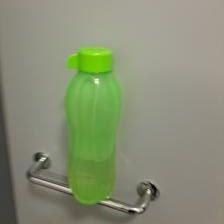bottle: (61, 45, 124, 205)
